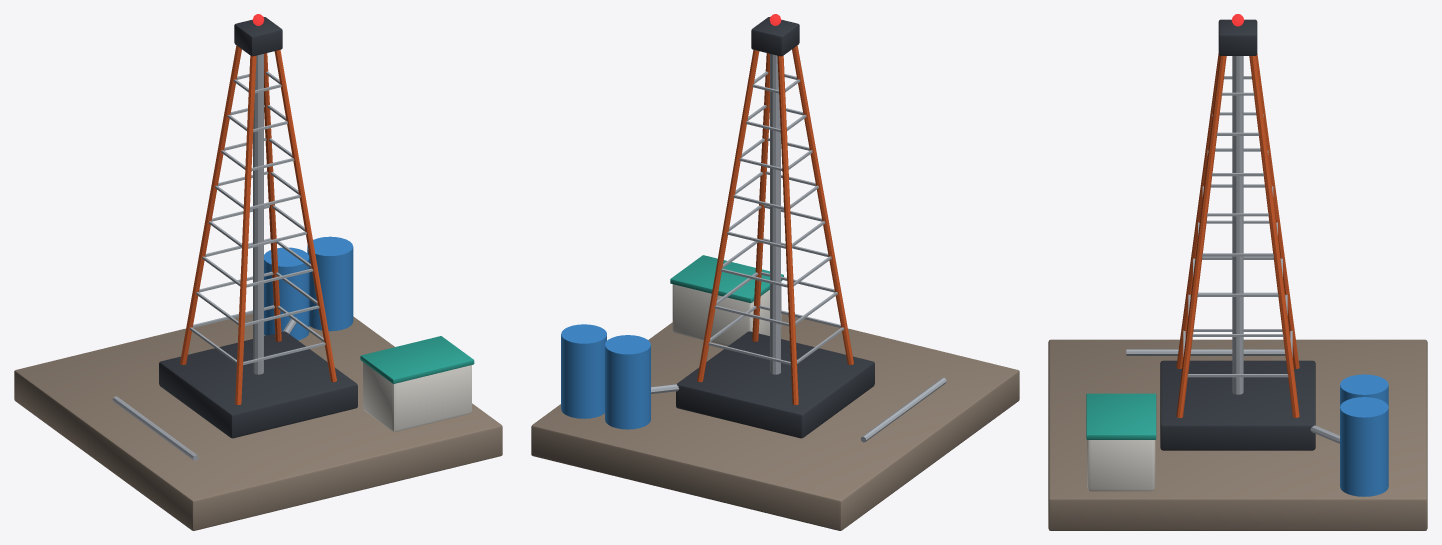
The model's file is deep_aquifer_drill.glb.
3 views of the same model, side by side, from view 1: azimuth 30°, elevation 25°; view 2: azimuth 150°, elevation 25°; view 3: azimuth 270°, elevation 25° (orthographic). The views are drawn at different scales.
Visible parts, largest first — view 1: deep_aquifer_drill; view 2: deep_aquifer_drill; view 3: deep_aquifer_drill.
Boxes of the visible parts, box(x1,y1,x2,y2) form: deep_aquifer_drill: box(14, 14, 502, 530); deep_aquifer_drill: box(531, 14, 1019, 530); deep_aquifer_drill: box(1048, 14, 1427, 530).
Bounding box in the file's own units: 7.8 × 9.93 × 7.8.
